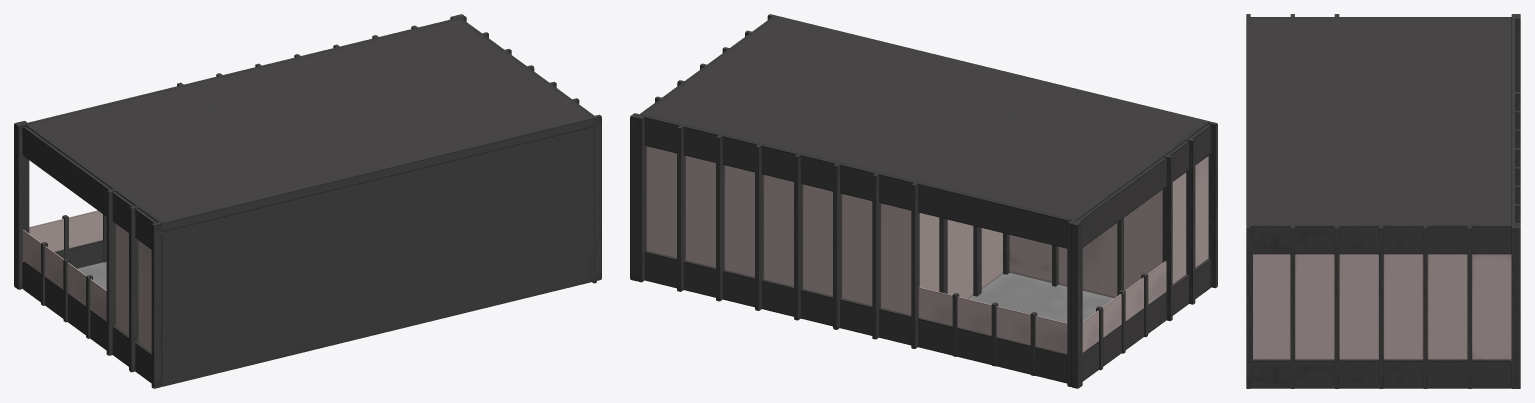
Rendered from AptBuilding02_BalconyFB.fbx.
3 renders of one model, left to right at view 1: azimuth 30°, elevation 25°; view 2: azimuth 150°, elevation 25°; view 3: azimuth 270°, elevation 25°, orthographic.
Parts seen in each view (by area): view 1: cuboid_40, cuboid_39, cuboid_58, cuboid_21, BalconyGlass_1, cuboid_41, BalconyGlass, cuboid_20, cuboid_18, cuboid_19, cuboid_17, cuboid_38 (+5 smaller); view 2: cuboid_39, cuboid_55, cuboid_57, cuboid_43, cuboid_42, BalconyGlass, cuboid_58, cuboid_41, cuboid_24, cuboid_30, cuboid_27, cuboid_25 (+25 smaller); view 3: cuboid_39, cuboid_56, cuboid_2, cuboid_32, cuboid_33, cuboid_31, cuboid_34, cuboid_35, cuboid_36, cuboid_16, cuboid_12, cuboid_1 (+9 smaller).
Boxes of the visible parts, x1,y1,x2,y2 form: cuboid_40: [161, 126, 594, 386]; cuboid_39: [25, 19, 594, 231]; cuboid_58: [22, 126, 156, 249]; cuboid_21: [22, 261, 151, 383]; BalconyGlass_1: [22, 229, 106, 321]; cuboid_41: [77, 262, 581, 384]; BalconyGlass: [29, 210, 102, 251]; cuboid_20: [151, 222, 161, 388]; cuboid_18: [106, 189, 115, 355]; cuboid_19: [129, 205, 138, 372]; cuboid_17: [16, 123, 26, 289]; cuboid_38: [138, 232, 161, 351]; cuboid_39: [642, 16, 1209, 221]; cuboid_55: [644, 115, 1071, 248]; cuboid_57: [644, 250, 1067, 383]; cuboid_43: [1009, 190, 1162, 298]; cuboid_42: [919, 213, 1002, 298]; BalconyGlass: [918, 287, 1067, 354]; cuboid_58: [1077, 124, 1211, 247]; cuboid_41: [969, 273, 1113, 322]; cuboid_24: [841, 194, 872, 305]; cuboid_30: [880, 203, 911, 314]; cuboid_27: [763, 174, 793, 286]; cuboid_25: [802, 184, 832, 295]; cuboid_39: [1246, 17, 1511, 226]; cuboid_56: [1246, 225, 1511, 254]; cuboid_2: [1250, 359, 1511, 388]; cuboid_32: [1427, 254, 1467, 359]; cuboid_33: [1383, 254, 1423, 359]; cuboid_31: [1472, 254, 1511, 361]; cuboid_34: [1339, 254, 1378, 359]; cuboid_35: [1295, 254, 1334, 359]; cuboid_36: [1253, 254, 1290, 359]; cuboid_16: [1511, 225, 1516, 388]; cuboid_12: [1334, 225, 1339, 388]; cuboid_1: [1246, 225, 1250, 388].
Size of the model in its own units: 287 by 101 by 155.
Materials: 1 (1 with a texture image).
